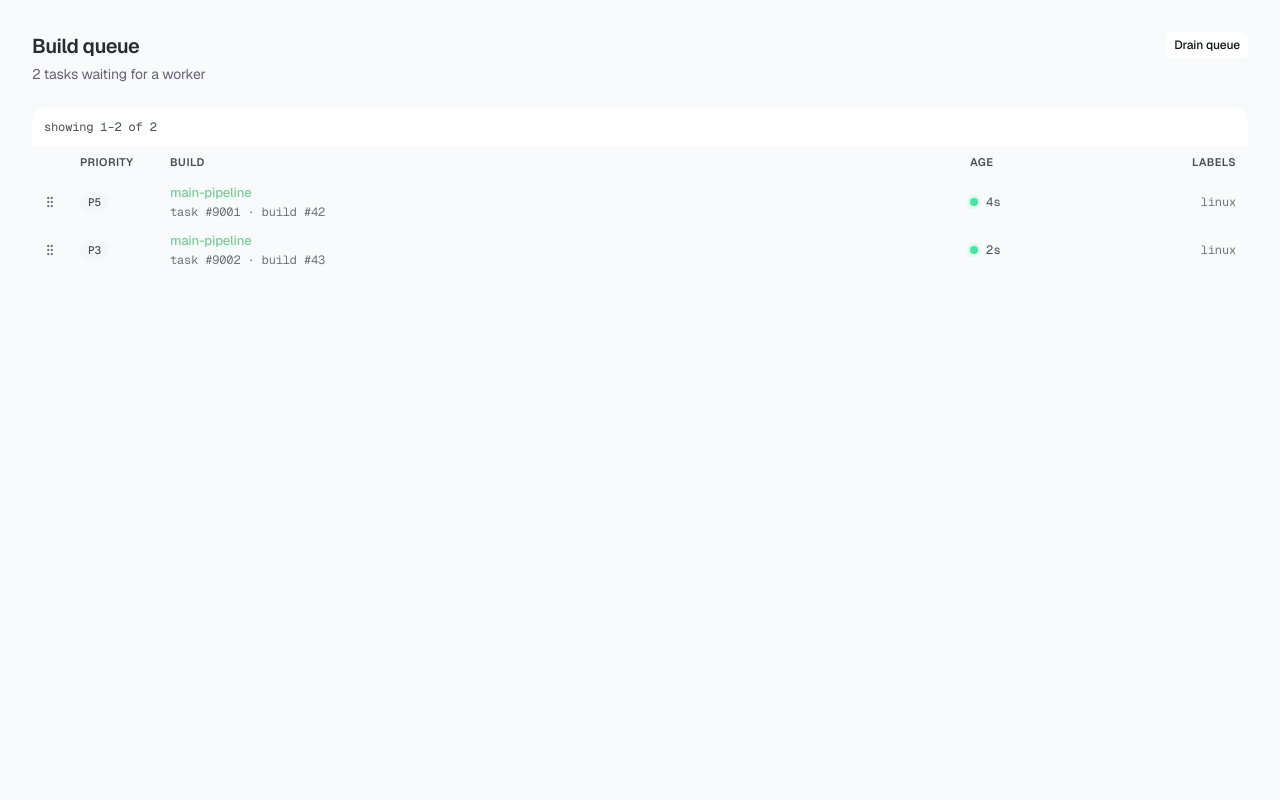
Scenario: Queue page — themed Drain confirm dialog (#1040) › clicking Confirm POSTs /drain once and renders the success banner
Click the button "Drain queue" at x=1207, y=45, box [1166,32,1248,58]
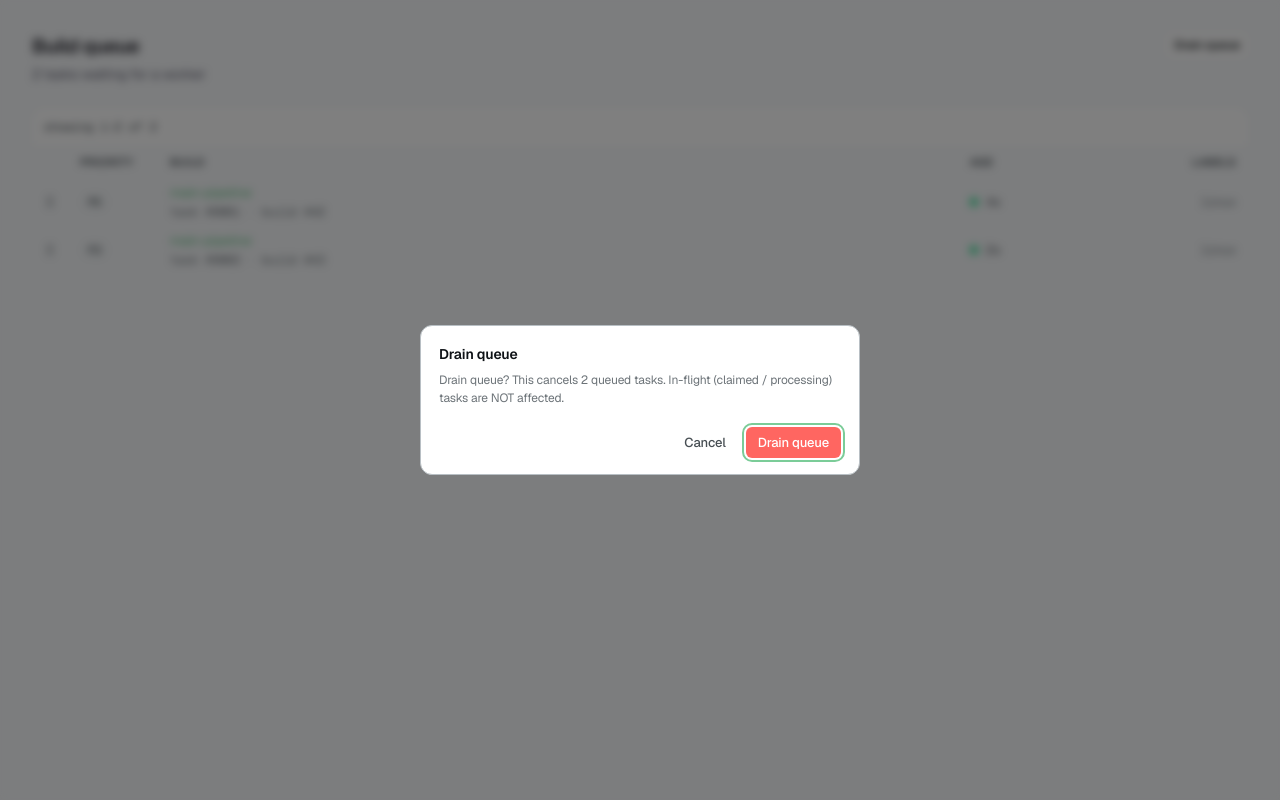
Click the button with test id "drain-queue-dialog-confirm" at x=793, y=443, box [746,427,841,458]
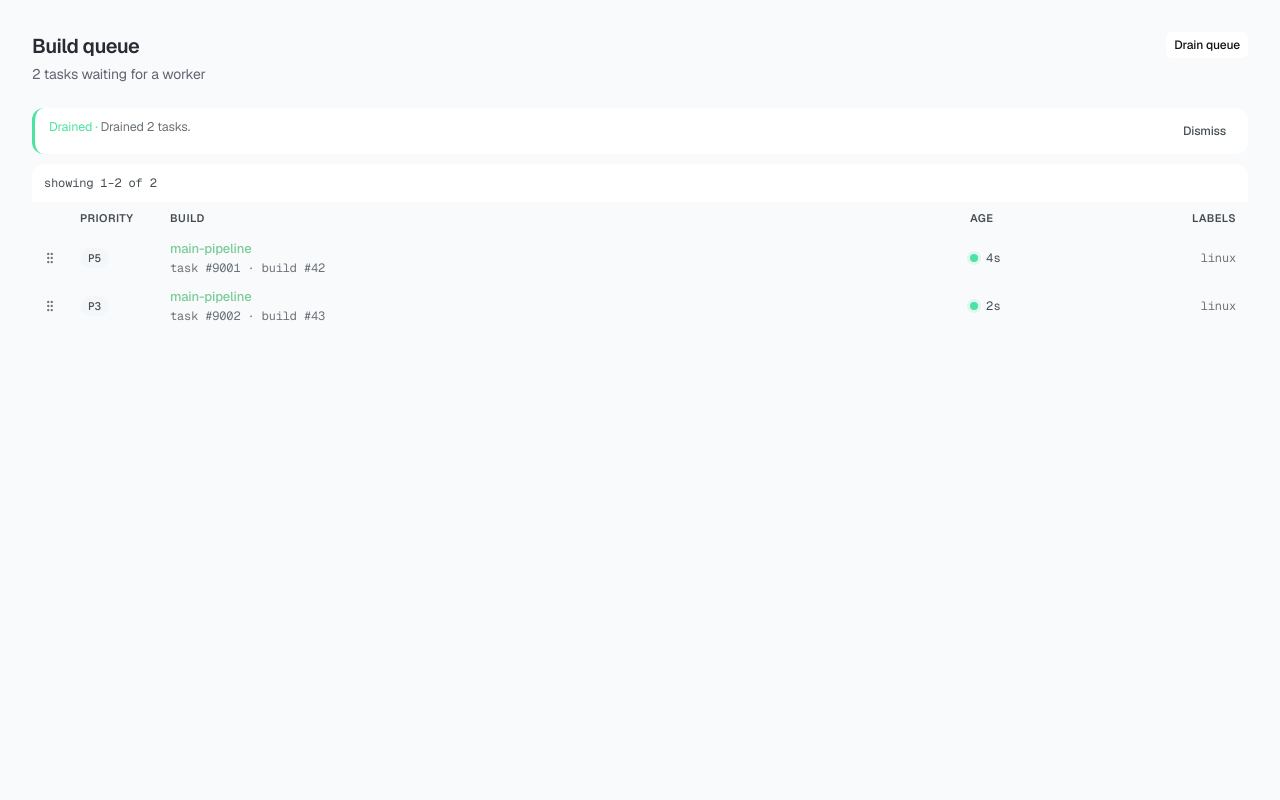
Result: the text "Drained 2 tasks." is shown at [100,118,190,135]
Result: the dialog with test id "drain-queue-dialog" is gone
